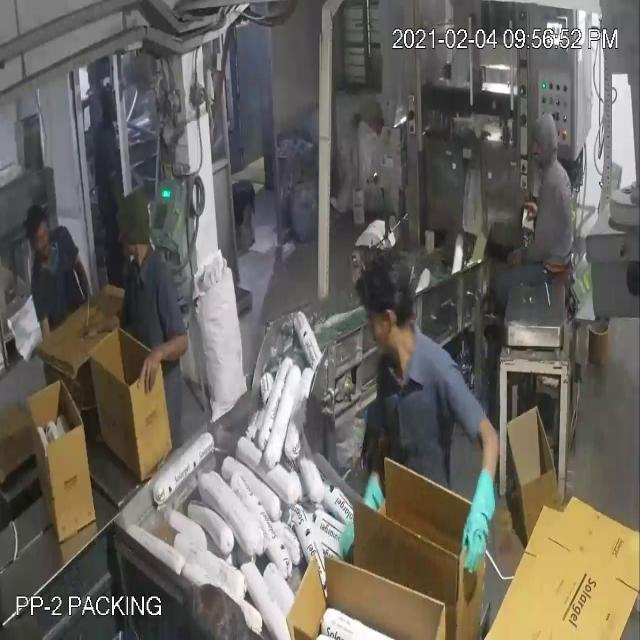No_Gloves: (26, 56, 480, 494)
